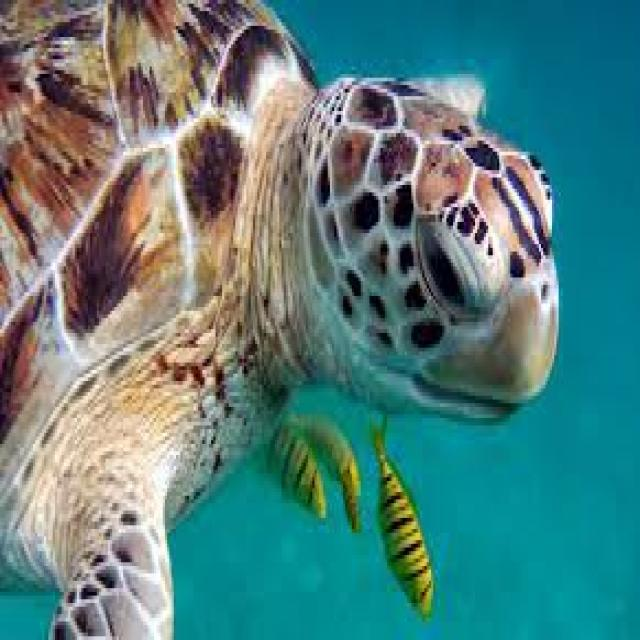turtle: (201, 55, 569, 482)
